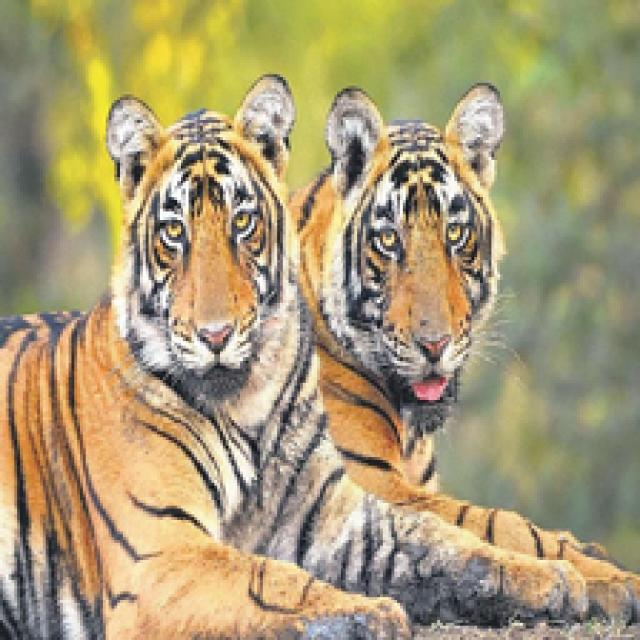tiger: (291, 78, 640, 639), (0, 83, 351, 640)
